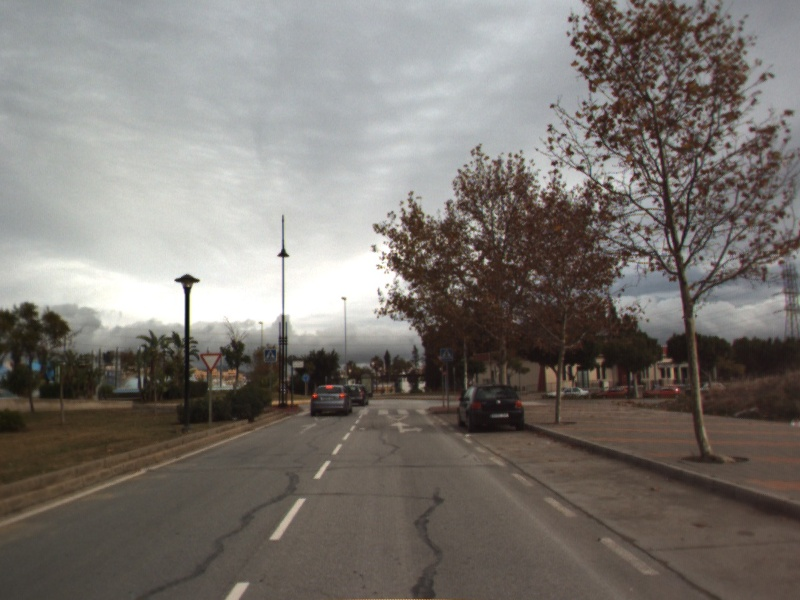STRAIGHT: (297, 421, 321, 436)
STRAIGHT_RIGHT: (387, 419, 426, 435)
